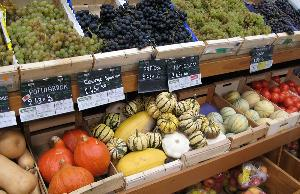grape: (81, 0, 171, 56), (9, 0, 73, 62), (173, 0, 263, 42)
melon: (215, 86, 275, 144)
tomato: (256, 70, 300, 116)
